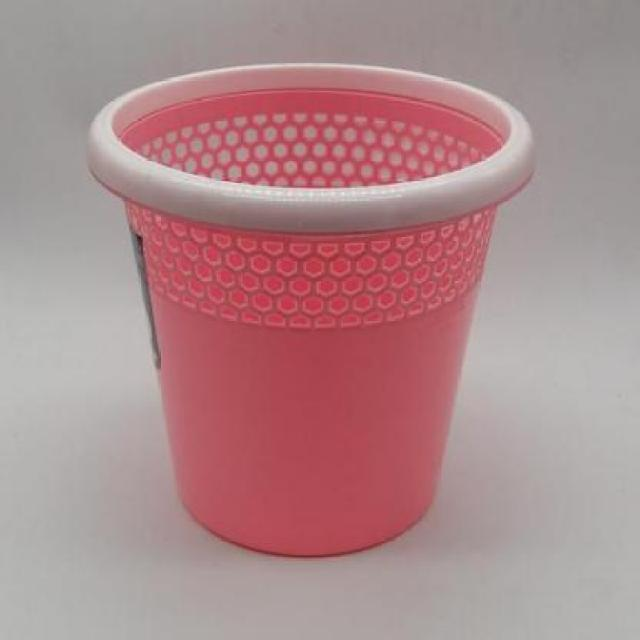dustbin: (80, 55, 542, 561)
